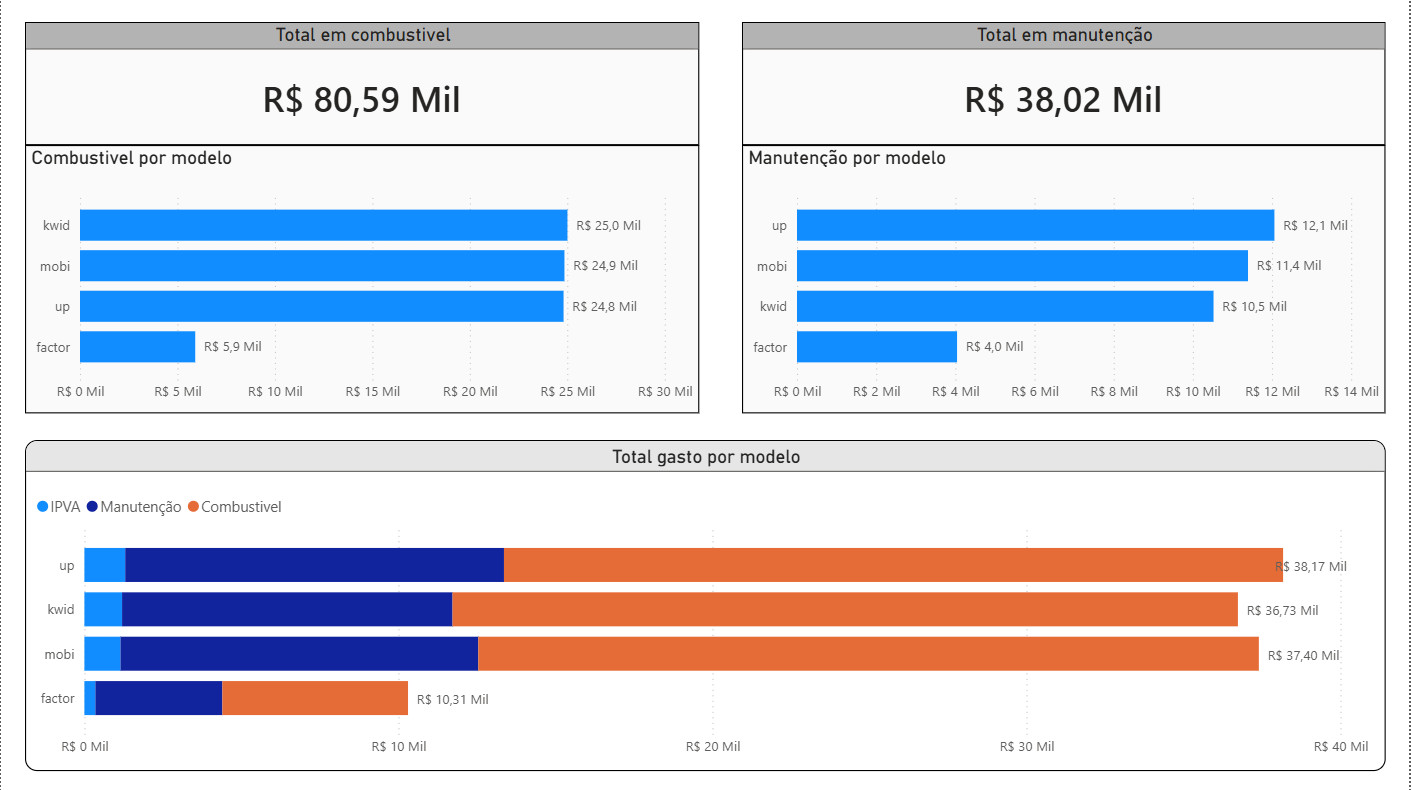

Layout of this report page (visuals, bound fields, positions):
{"tool":"powerbi","page":{"name":"Frota","canvas":[1280,720],"ordinal":1},"visuals":[{"type":"clusteredBarChart","title":"Combustivel por modelo","fields":{"Category":["tabela_veiculos.modelo"],"Y":["Sum(tabela_combustivel.valor_total_pago)"]},"box":[21.5,131.6,612.5,243.6],"z":0},{"type":"cardVisual","title":"Total em combustivel","fields":{"Data":["Sum(tabela_combustivel.valor_total_pago)"]},"box":[21.5,19.7,612.5,111.9],"z":1000},{"type":"clusteredBarChart","title":"Manutenção por modelo","fields":{"Category":["tabela_veiculos.modelo"],"Y":["Sum(tabela_manutençao.valor_manutencao)"]},"box":[673.4,131.6,584.8,243.6],"z":2000},{"type":"cardVisual","title":"Total em manutenção","fields":{"Data":["Sum(tabela_manutençao.valor_manutencao)"]},"box":[673.4,19.7,584.8,111.9],"z":3000},{"type":"barChart","title":"Total gasto por modelo","fields":{"Category":["tabela_veiculos.modelo"],"Y":["Sum(tabela_veiculos.valor_ipva)","Sum(tabela_manutençao.valor_manutencao)","Sum(tabela_combustivel.valor_total_pago)"]},"box":[21.5,400.3,1236.7,300.9],"z":5000}]}

Visuals, with their boxes in screenshot pixels (x1, y1, x2, y2), scaled from the page's 1280x720 canvas onto the 1412x790 screenshot:
"Combustivel por modelo" clusteredBarChart: [left=24, top=144, right=699, bottom=412]
"Total em combustivel" cardVisual: [left=24, top=22, right=699, bottom=144]
"Manutenção por modelo" clusteredBarChart: [left=743, top=144, right=1388, bottom=412]
"Total em manutenção" cardVisual: [left=743, top=22, right=1388, bottom=144]
"Total gasto por modelo" barChart: [left=24, top=439, right=1388, bottom=769]
